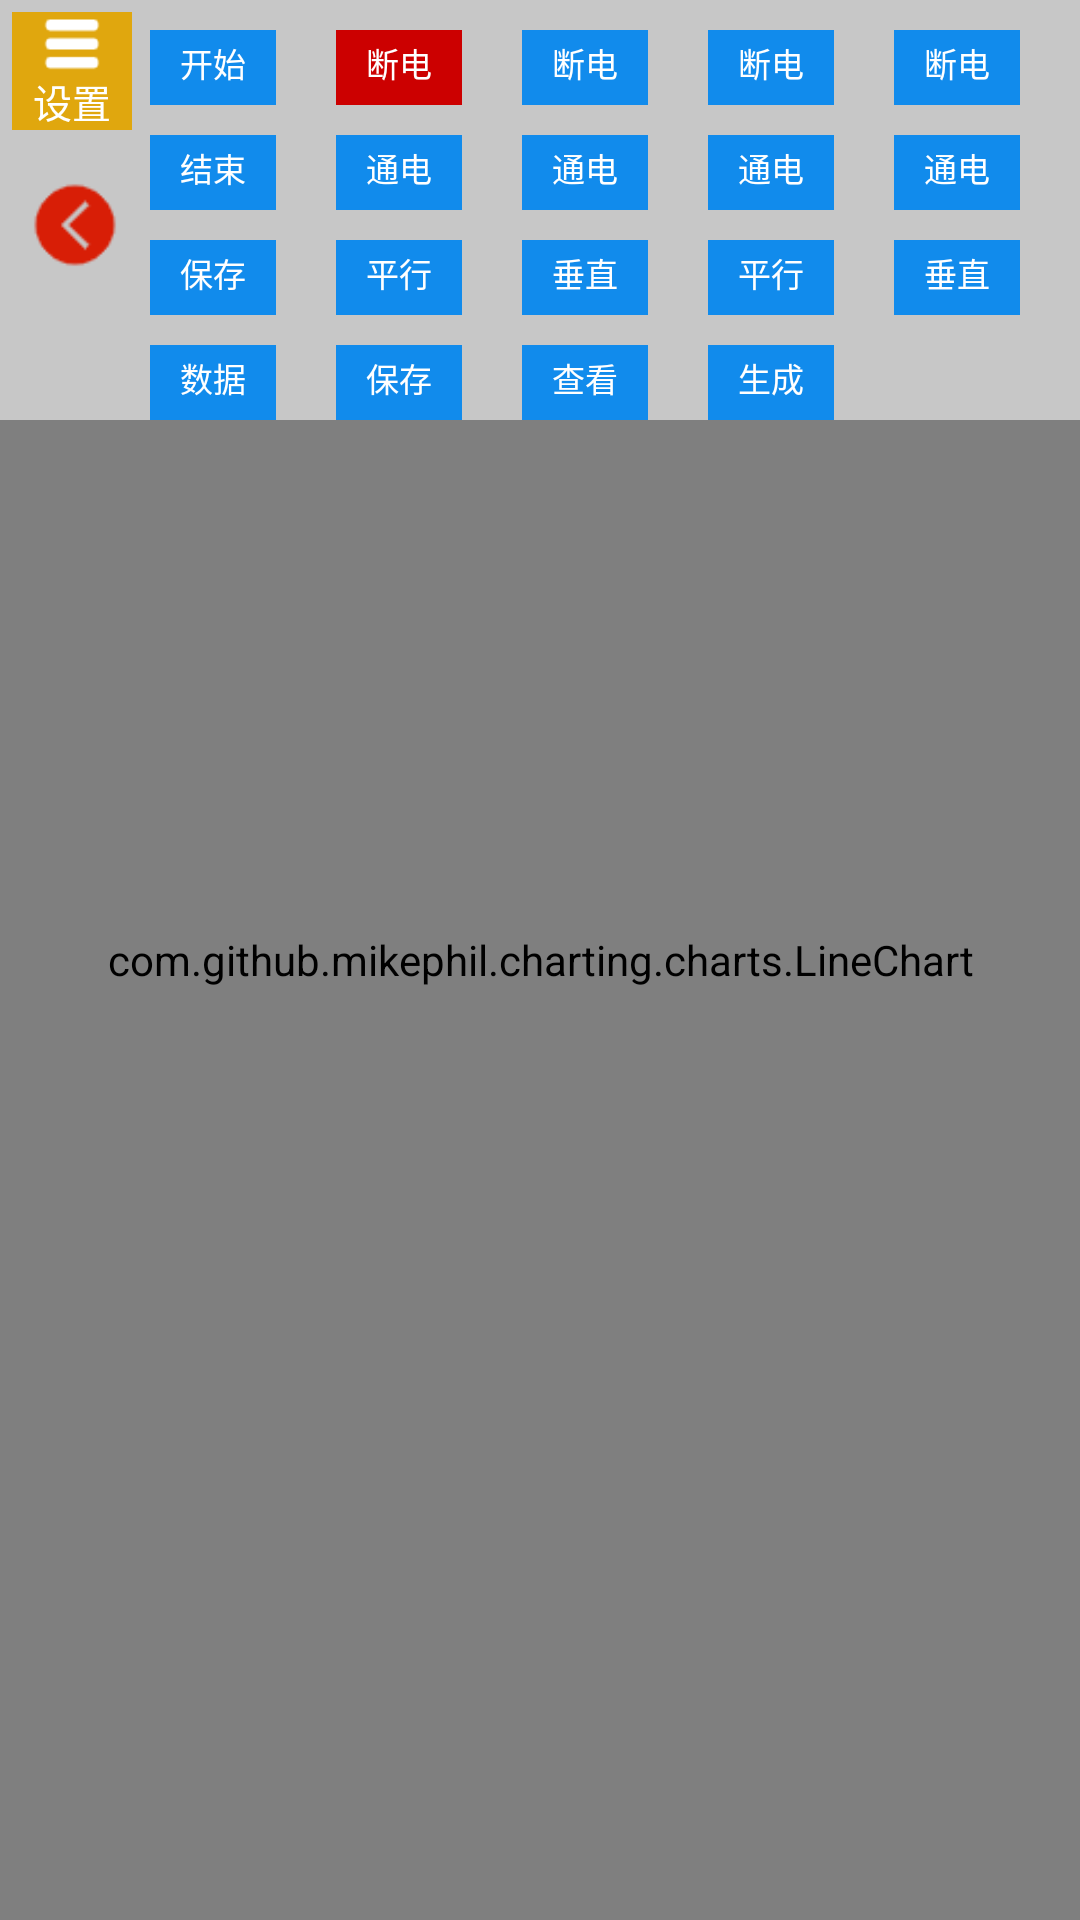

Screen size 1080×1920. Icon name, then its center in pixels as (x=x, y=y):
back: (x=75, y=225)
